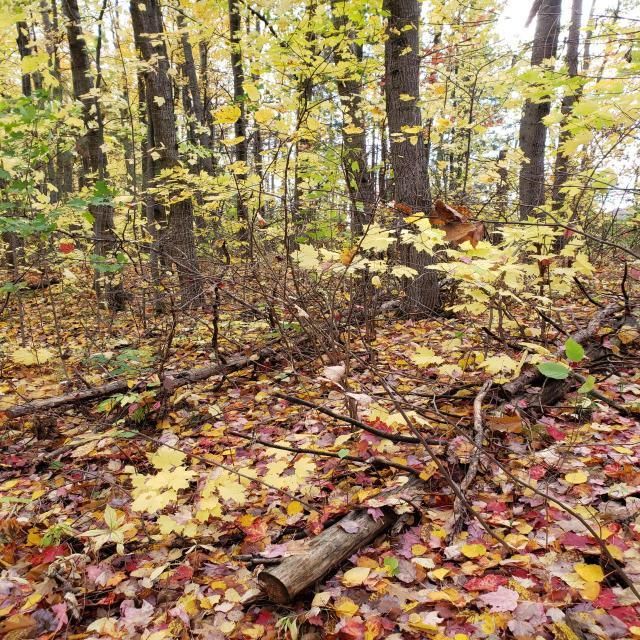fallen_object: (242, 273, 640, 616), (0, 253, 427, 444)
